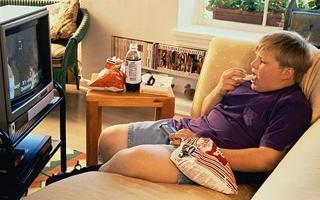person: (97, 31, 315, 189)
